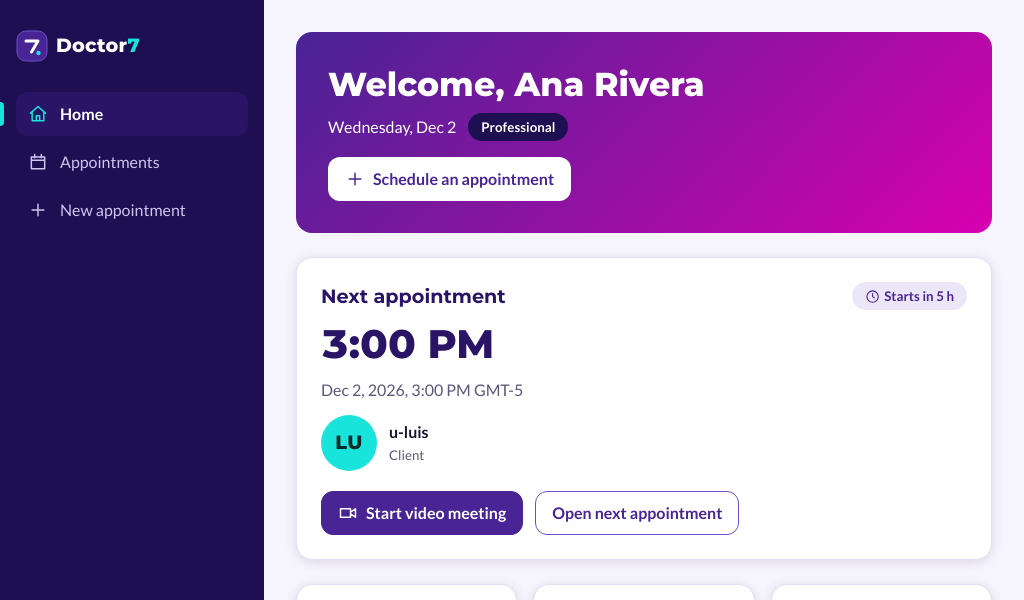
Test case: Home for a professional › explains a closed appointment
Click the button "Start video meeting" at point(422, 513), box left=321, top=491, right=523, bottom=535
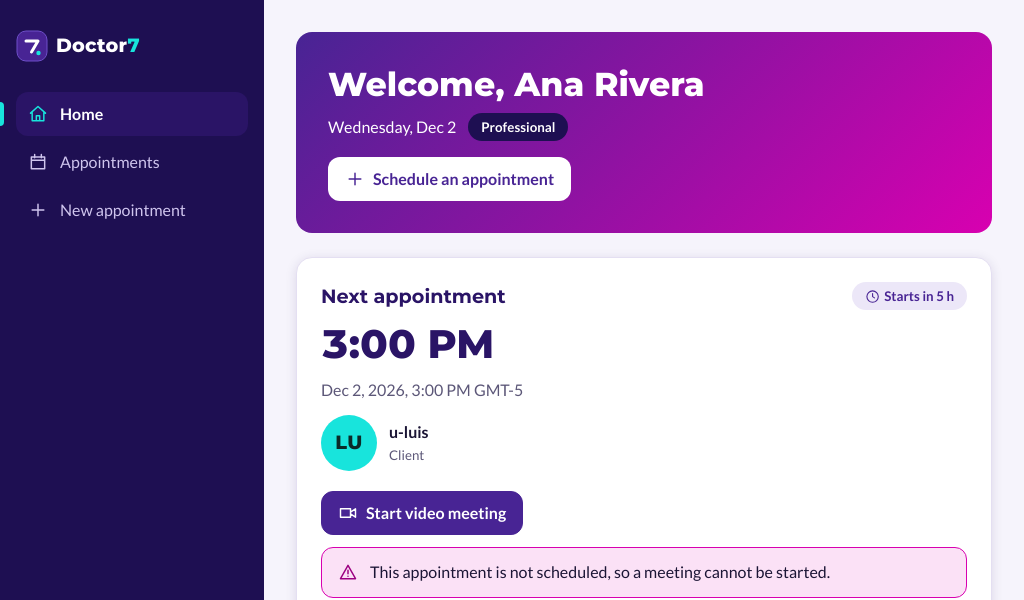
Now the message reads "This appointment is not scheduled, so a meeting cannot be started.", box left=370, top=562, right=830, bottom=581
